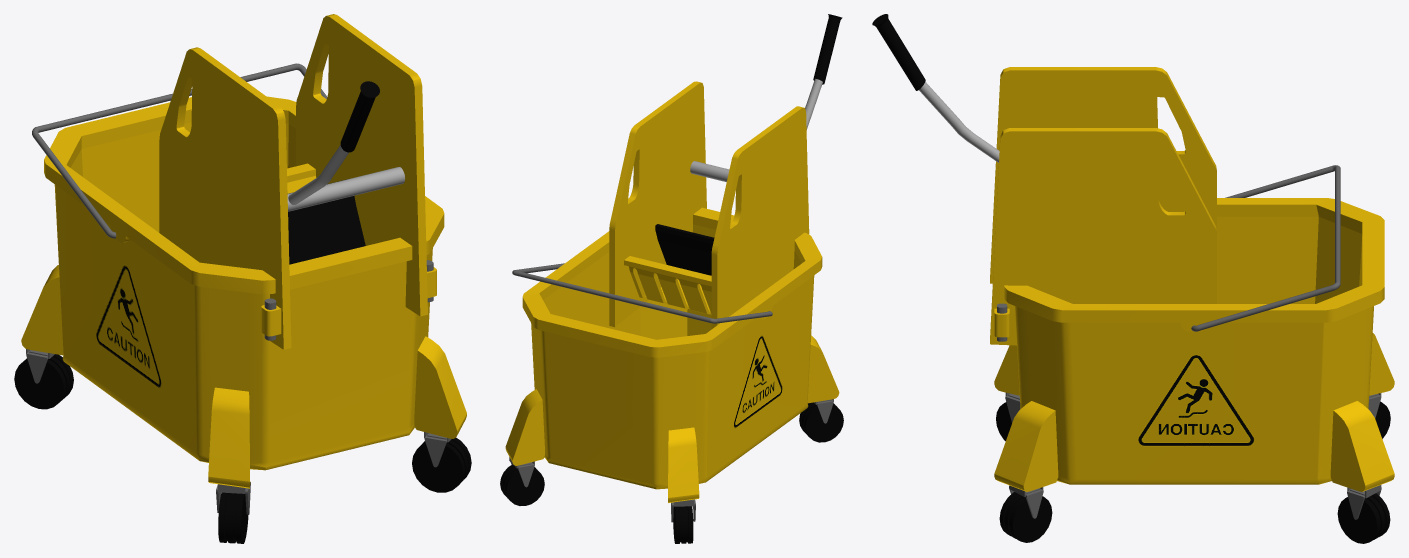
Rendered from Mop dehydration machine1.fbx.
3 renders of one model, left to right at view 1: azimuth 30°, elevation 25°; view 2: azimuth 150°, elevation 25°; view 3: azimuth 270°, elevation 25°, orthographic. The views are drawn at different scales.
Visible parts, largest first — view 1: pCube1, polySurface1, pCylinder1 (×3), pCube17, pTorus3, pCylinder3, pCylinder2, polySurface2, pCube20; view 2: pCube1, polySurface1, pCylinder1 (×3), polySurface2, pCube17, pTorus3, pCylinder3, pCylinder2; view 3: pCube1, polySurface1, pCylinder1 (×2), pCylinder3, pTorus3.
Part boxes in pixels (x1,y1,x2,y2): pCube1: [21, 96, 466, 488]; polySurface1: [159, 14, 427, 349]; pCylinder1 (×3): [14, 354, 471, 543]; pCube17: [288, 179, 365, 264]; pTorus3: [32, 63, 327, 238]; pCylinder3: [288, 81, 379, 204]; pCylinder2: [287, 167, 405, 211]; polySurface2: [287, 163, 316, 193]; pCube20: [261, 305, 281, 336]; pCube1: [505, 207, 839, 502]; polySurface1: [609, 81, 809, 328]; pCylinder1 (×3): [500, 402, 843, 543]; polySurface2: [624, 256, 711, 314]; pCube17: [655, 224, 714, 275]; pTorus3: [512, 263, 772, 323]; pCylinder3: [805, 14, 842, 129]; pCylinder2: [690, 161, 729, 181]; pCube1: [994, 198, 1394, 491]; polySurface1: [990, 67, 1216, 345]; pCylinder1 (×2): [999, 492, 1390, 543]; pCylinder3: [872, 14, 999, 162]; pTorus3: [1191, 165, 1340, 331].
Bounding box in the file's own units: 18.71 × 32.64 × 33.92.
